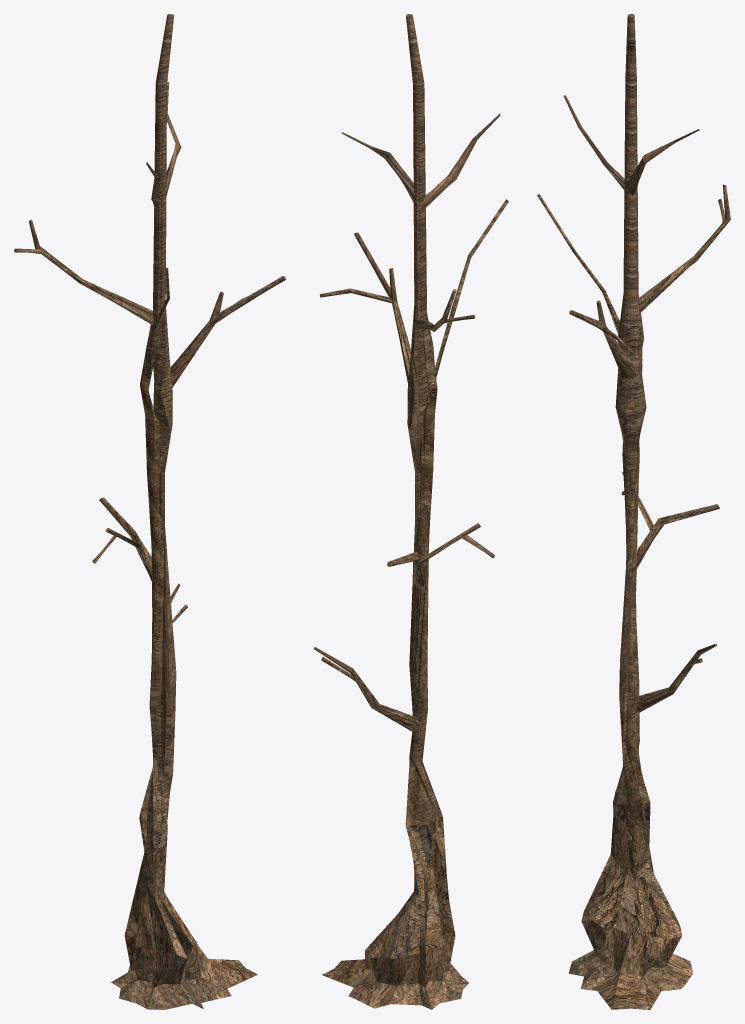
The model's file is trunk2_v3.glb.
3 renders of one model, left to right at view 1: azimuth 30°, elevation 25°; view 2: azimuth 150°, elevation 25°; view 3: azimuth 270°, elevation 25°, orthographic.
Parts seen in each view (by area): view 1: trunk2; view 2: trunk2; view 3: trunk2.
Boxes of the visible parts, x1,y1,x2,y2 form: trunk2: (14, 14, 285, 1009); trunk2: (314, 14, 508, 1009); trunk2: (537, 14, 730, 1009).
Size of what is drawn, in the model's own units: 16.94 by 78.85 by 14.45.
1 material, 1 textured.
